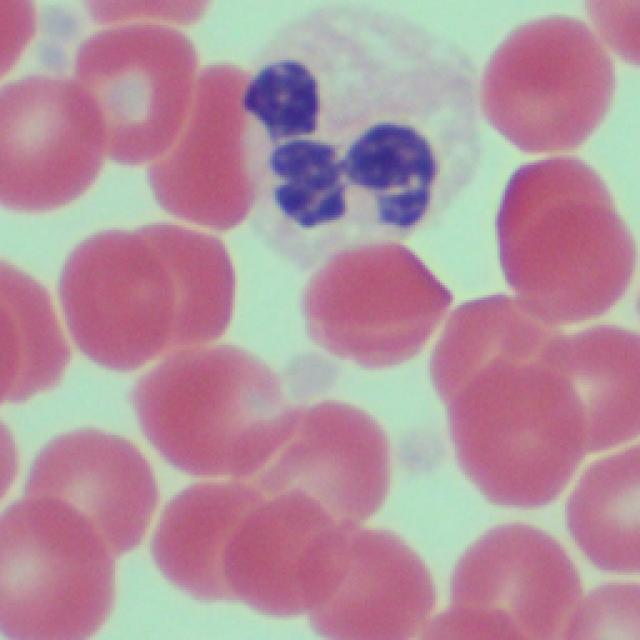RBC: (65, 21, 206, 187), (506, 146, 638, 318), (300, 233, 450, 383), (123, 357, 300, 478), (249, 391, 397, 531), (453, 349, 582, 502), (478, 11, 610, 158), (140, 59, 256, 224), (428, 277, 578, 403), (448, 508, 584, 640), (298, 512, 438, 640), (1, 492, 120, 640), (60, 235, 180, 378), (33, 422, 157, 556), (228, 475, 345, 616), (134, 470, 252, 604), (0, 74, 99, 213), (0, 254, 84, 404), (546, 444, 640, 576), (549, 317, 640, 453), (0, 0, 45, 115)
WBC: (234, 17, 486, 246)
